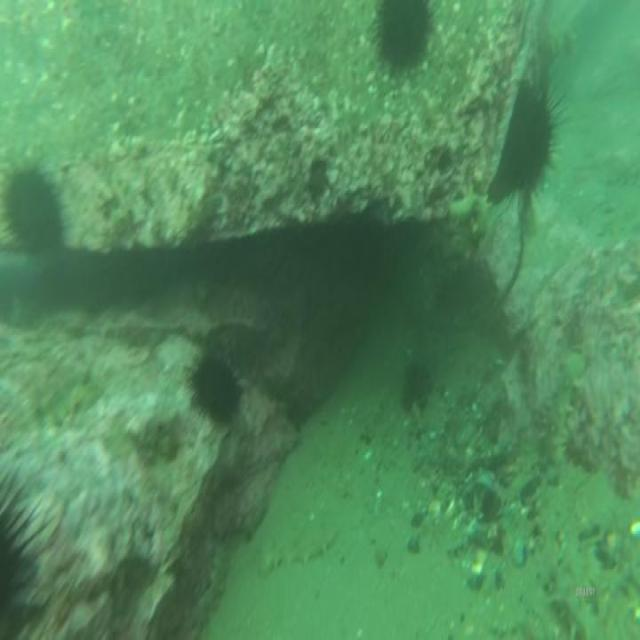echinus: (491, 65, 565, 215), (0, 163, 71, 265), (182, 338, 252, 436), (370, 1, 436, 86)
holothurian: (428, 185, 490, 283), (539, 354, 585, 476)
